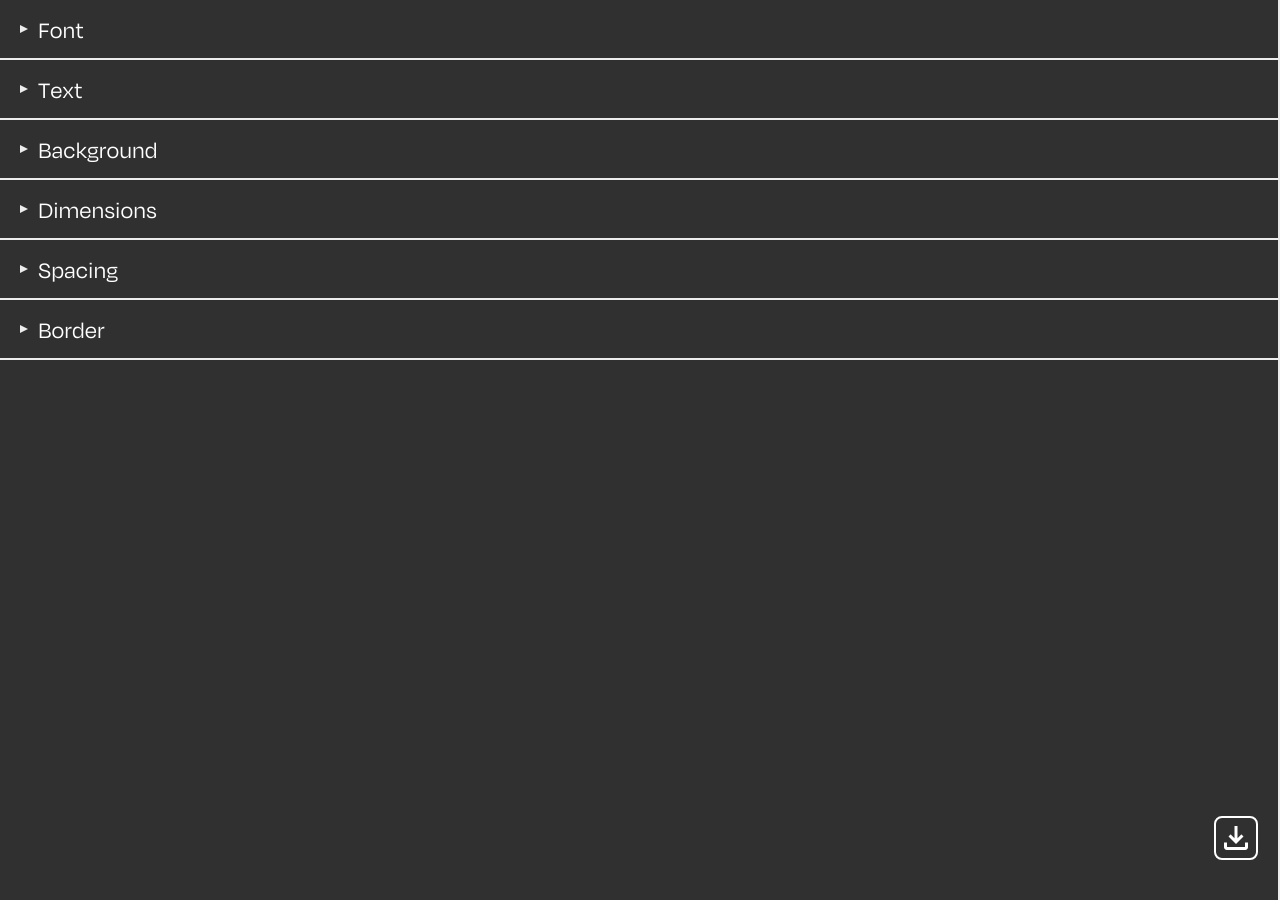
Test: Editor 컴포넌트 › Text 카테고리 버튼 클릭 시 Text 에디터 영역을 표시한다
Click the button "Text".
click(60, 89)  # box [0, 60, 1278, 120]
(page scrolled)
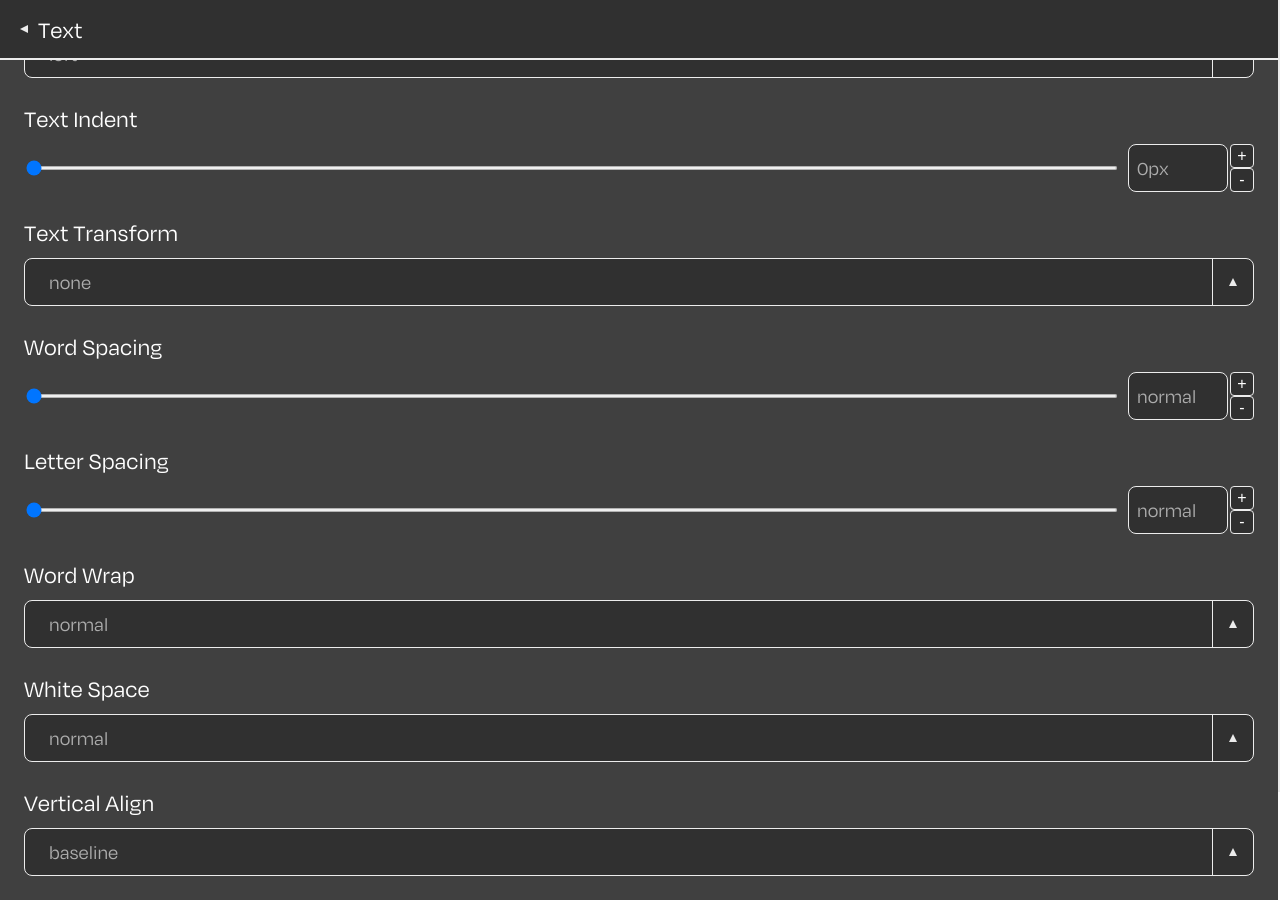
Result: the heading "Text Indent" is shown at [24, 102, 137, 134]
Result: the heading "Text Transform" is shown at [24, 216, 178, 248]
Result: the heading "Word Spacing" is shown at [24, 330, 162, 362]
